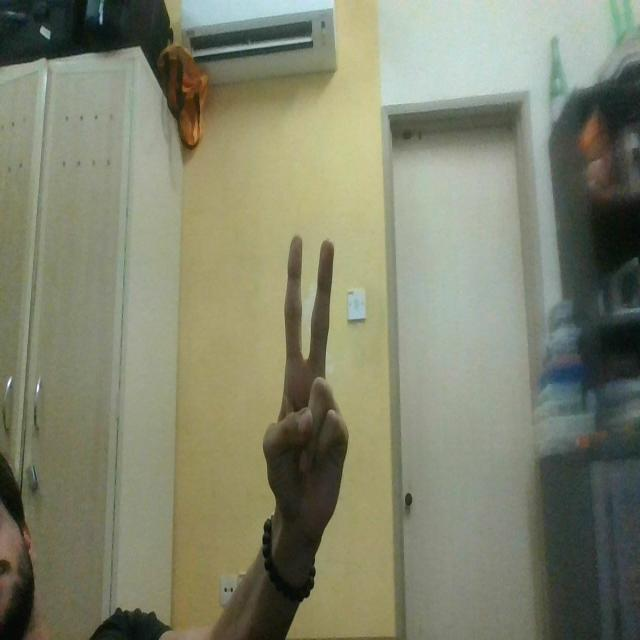peace: (250, 224, 354, 570)
